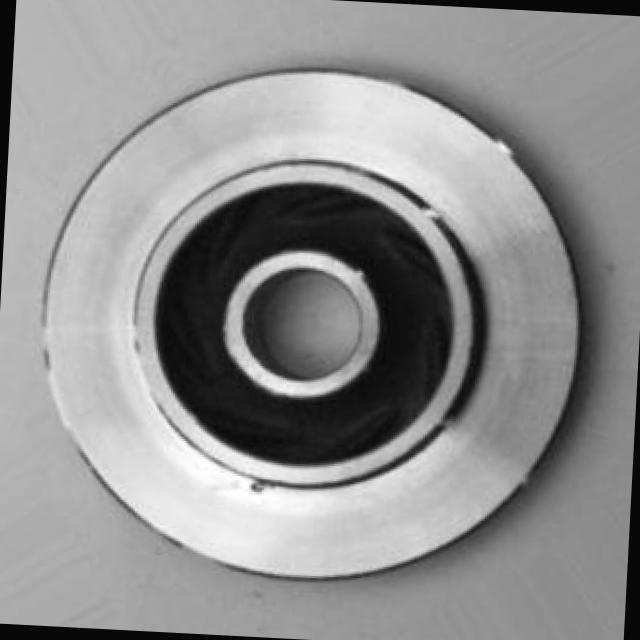Defect: (242, 476, 277, 502)
